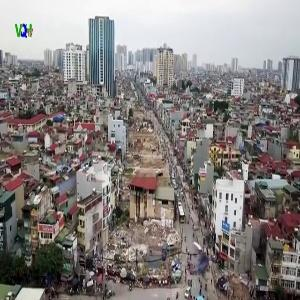drone: (181, 243, 223, 285)
